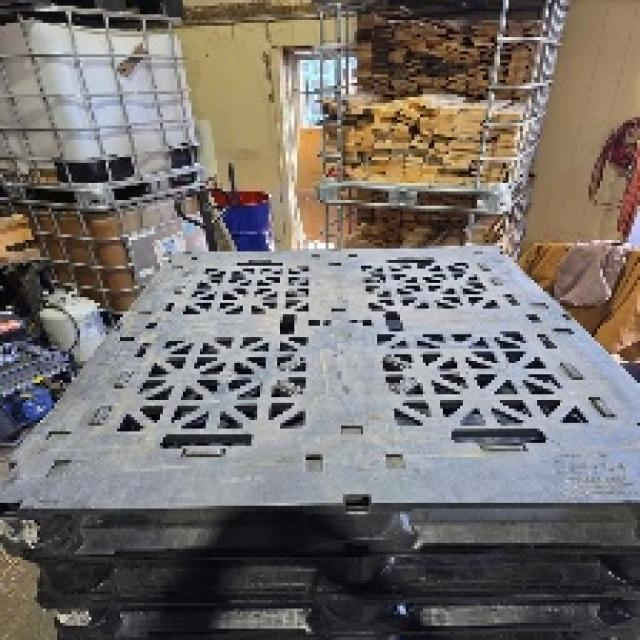igps: (0, 237, 640, 581), (16, 538, 640, 619), (25, 580, 640, 640)
